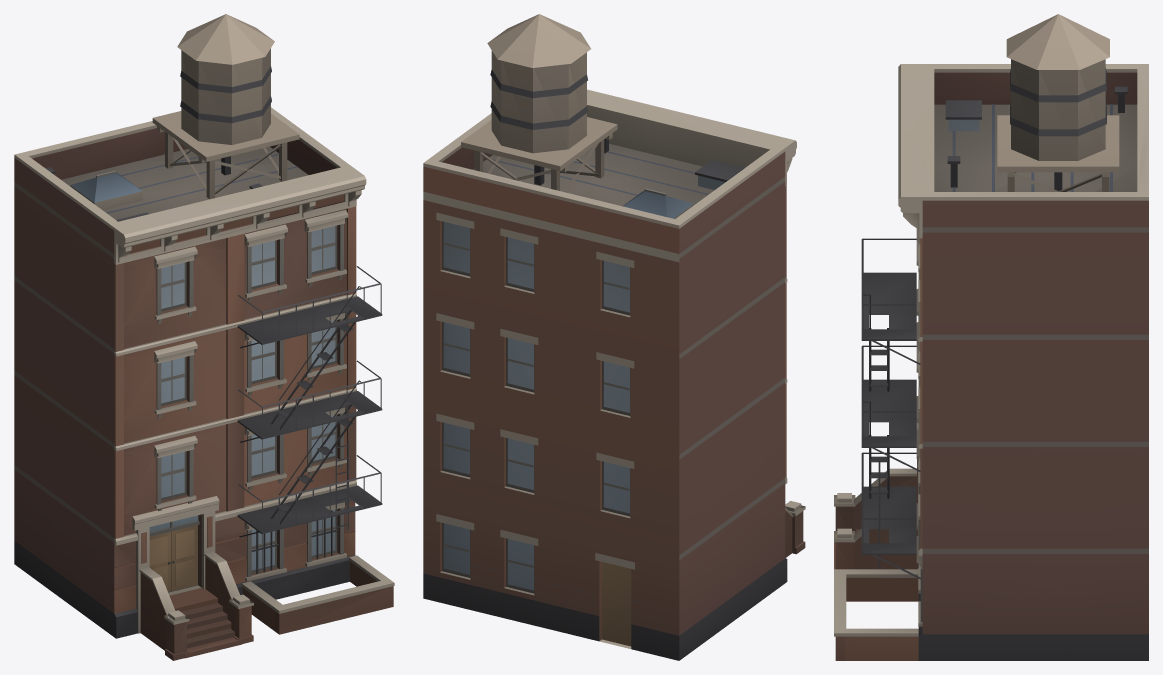
Rendered from brownstone.glb.
The picture shows the model from 3 angles, left to right: view 1: azimuth 30°, elevation 25°; view 2: azimuth 150°, elevation 25°; view 3: azimuth 270°, elevation 25°; orthographic projection. The views are drawn at different scales.
Visible parts, largest first — view 1: brownstone; view 2: brownstone; view 3: brownstone.
Part boxes in pixels (x1,y1,x2,y2): brownstone: [14, 14, 394, 660]; brownstone: [423, 14, 805, 660]; brownstone: [834, 14, 1148, 660].
Bounding box in the file's own units: 8 × 17.06 × 8.
